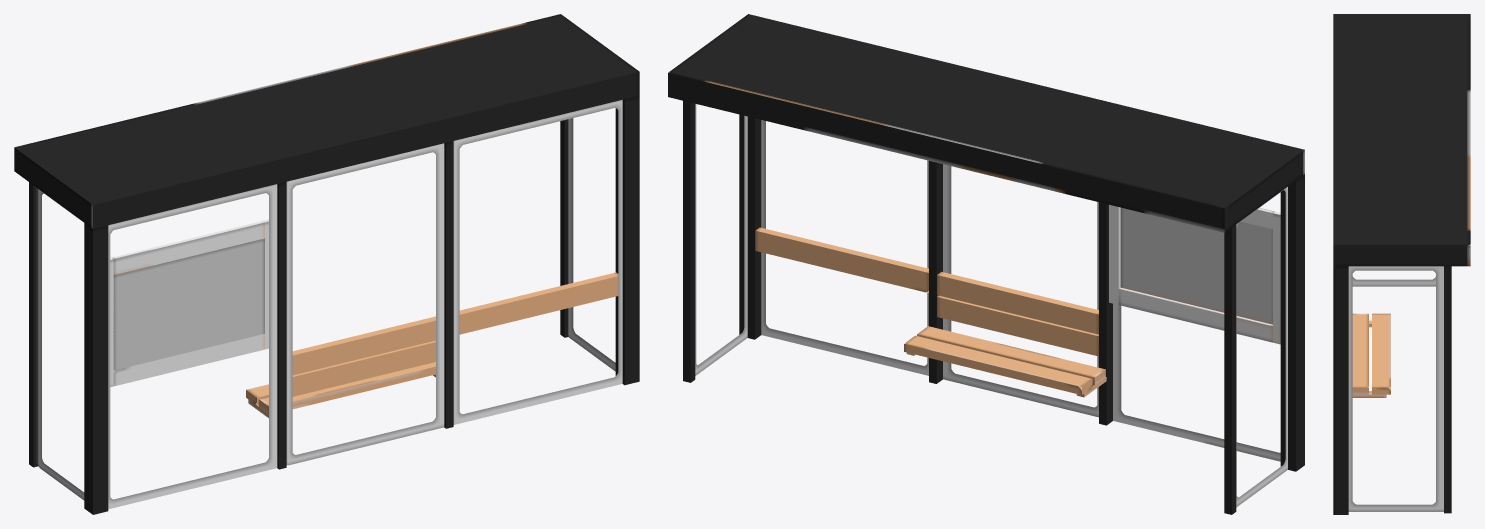
File: nl_bus_shelter.obj
3 views of the same model, side by side, from view 1: azimuth 30°, elevation 25°; view 2: azimuth 150°, elevation 25°; view 3: azimuth 270°, elevation 25° (orthographic). The views are drawn at different scales.
Parts seen in each view (by area): view 1: roof, a, 4, 3, 2, 1, l, tt, tb, t, 4f, b (+3 smaller); view 2: roof, a, 4, 1, l, 3, 2, tt, 4f, tb, 1f, bf (+4 smaller); view 3: roof, 1, 1f, bf, bb, 5.
Part boxes in pixels (<box>): roof: <box>14,14,639,228</box>; a: <box>113,238,264,370</box>; 4: <box>84,184,277,514</box>; 3: <box>277,143,444,469</box>; 2: <box>444,100,622,428</box>; 1: <box>568,95,639,385</box>; l: <box>263,219,618,349</box>; tt: <box>292,316,435,375</box>; tb: <box>292,340,435,396</box>; t: <box>111,221,264,274</box>; 4f: <box>29,182,38,467</box>; b: <box>113,334,265,386</box>; roof: <box>668,14,1304,232</box>; a: <box>1120,207,1272,324</box>; 4: <box>1113,174,1304,471</box>; 1: <box>695,104,761,375</box>; l: <box>755,204,1120,304</box>; 3: <box>943,164,1112,425</box>; 2: <box>761,120,942,383</box>; tt: <box>937,271,1098,334</box>; 4f: <box>1224,224,1236,514</box>; tb: <box>937,295,1098,356</box>; 1f: <box>683,101,695,382</box>; bf: <box>904,335,1092,394</box>; roof: <box>1333,14,1470,266</box>; 1: <box>1333,266,1443,514</box>; 1f: <box>1444,266,1451,513</box>; bf: <box>1372,313,1390,394</box>; bb: <box>1352,313,1368,394</box>; 5: <box>1352,276,1435,286</box>.
Bounding box in the file's own units: 4.5 × 2.44 × 1.12.
1 material, 1 textured.
